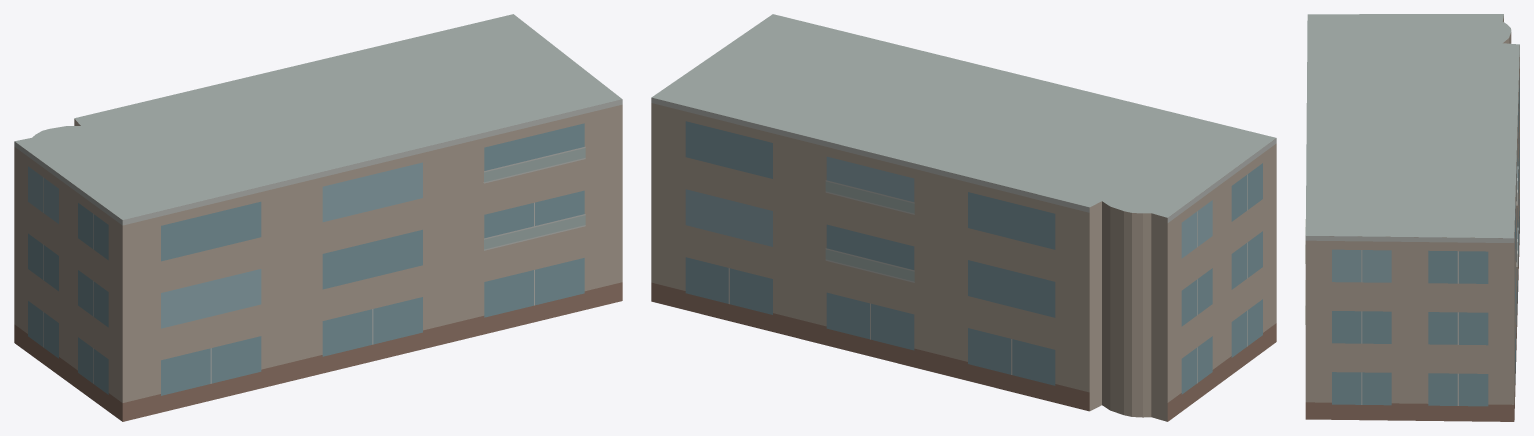
Rendered from survey-upis-32605398.glb.
3 views of the same model, side by side, from view 1: azimuth 30°, elevation 25°; view 2: azimuth 150°, elevation 25°; view 3: azimuth 270°, elevation 25° (orthographic). The views are drawn at different scales.
Visible parts, largest first — view 1: survey-upis-32605398.tmp; view 2: survey-upis-32605398.tmp; view 3: survey-upis-32605398.tmp.
Part boxes in pixels (box(x1,y1,x2,y2)): survey-upis-32605398.tmp: box(14, 14, 622, 421); survey-upis-32605398.tmp: box(651, 14, 1276, 421); survey-upis-32605398.tmp: box(1305, 14, 1519, 421).
Size of the model in its own units: 23.97 by 9.15 by 9.71.
